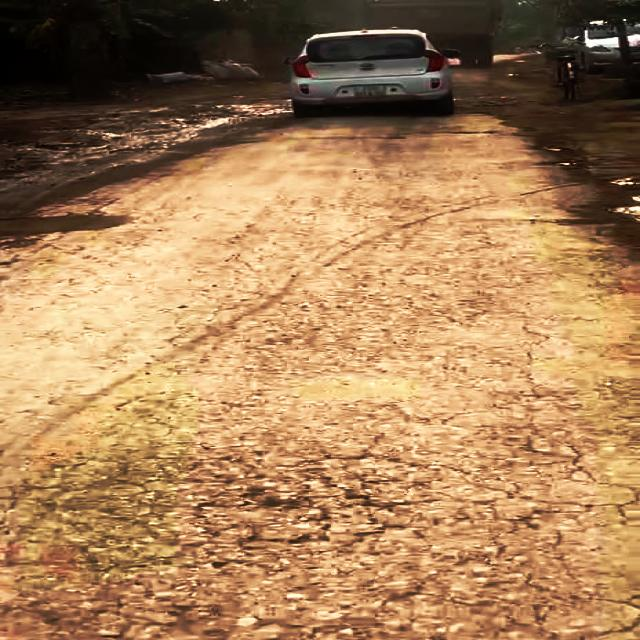pothole: (0, 208, 145, 246)
